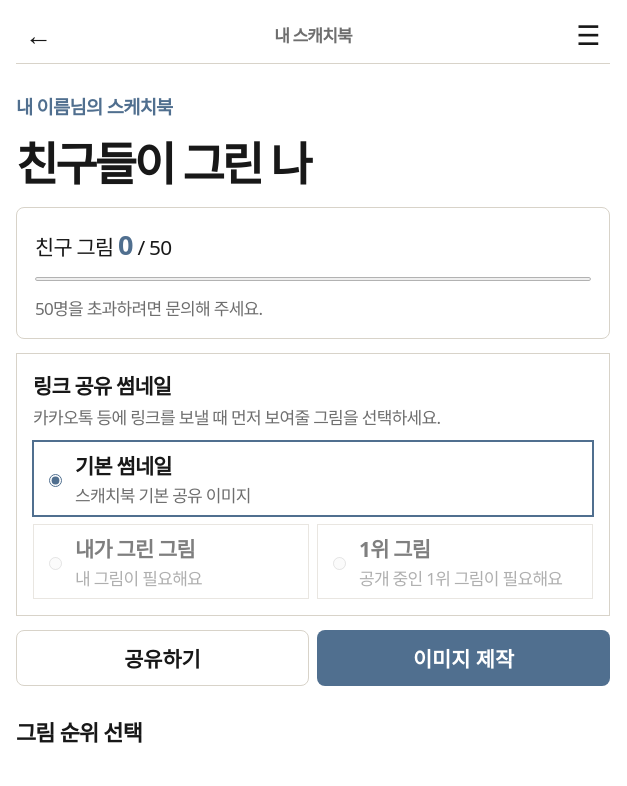
it: ManageDashboard 친구 그림 추가 결제 › 공유창 실패 후 복사 결과를 메뉴가 닫힌 뒤에도 화면에 알린다
The image size is (627, 786).
Click the heading named "메뉴".
click(588, 34)  # box left=576, top=16, right=600, bottom=53
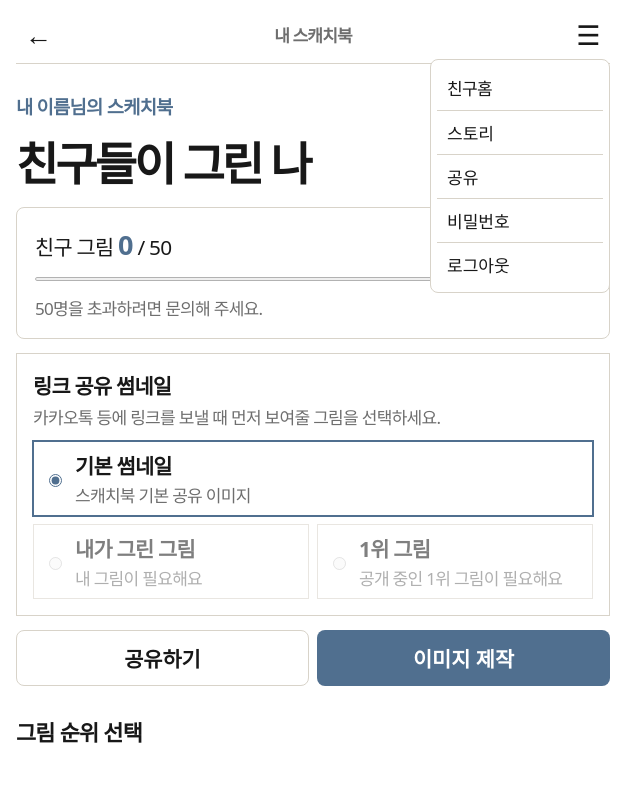
Click the button with aria-label "공유하기".
click(520, 176)  # box left=437, top=154, right=603, bottom=198
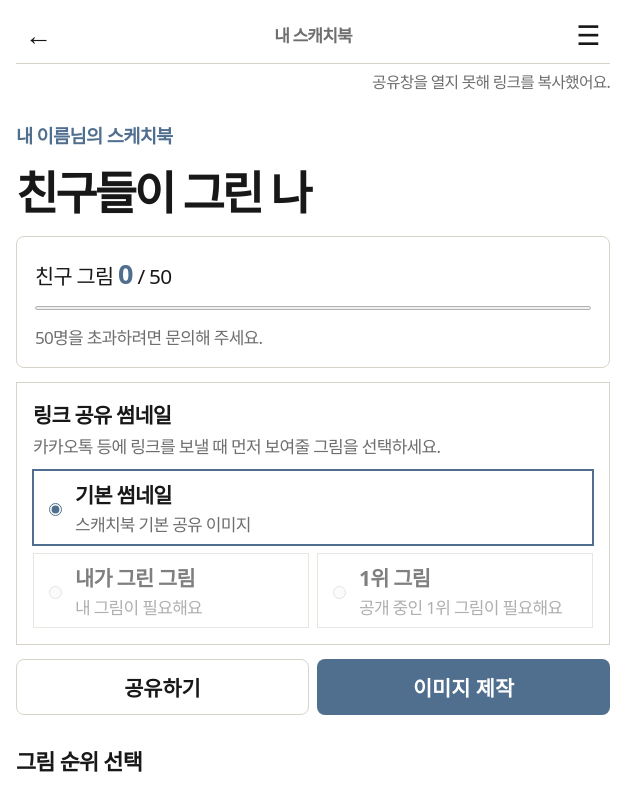
Expected: the message reads "공유창을 열지 못해 링크를 복사했어요.", left=372, top=71, right=610, bottom=93
